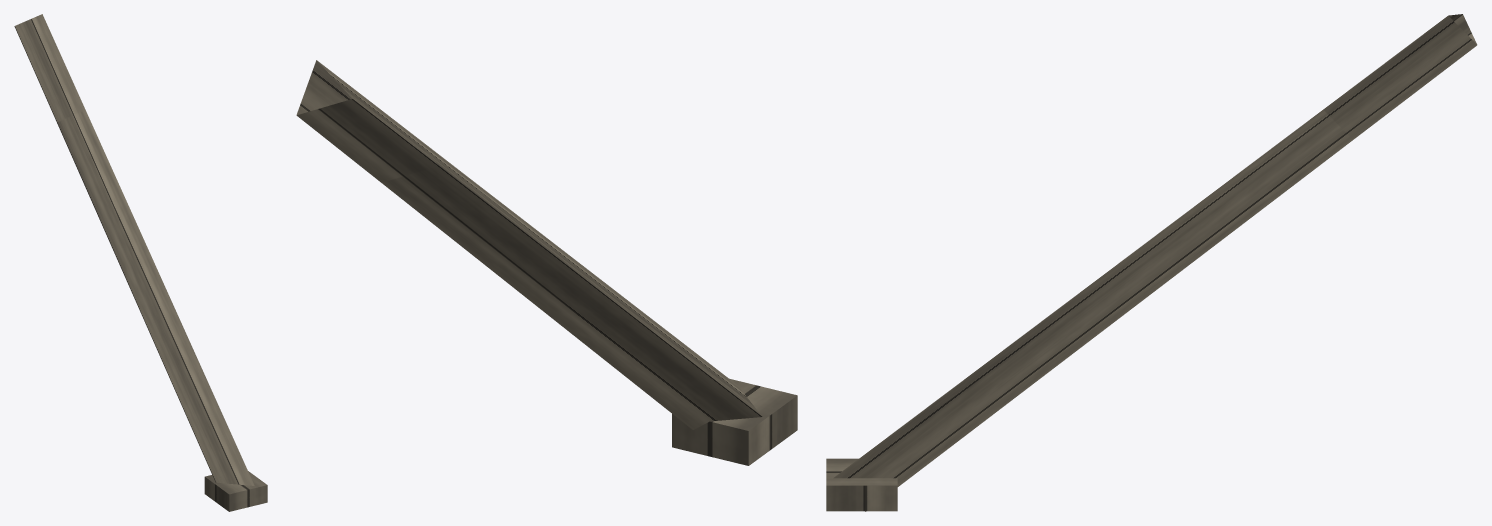
Rendered from Prop_Support_LOD2.gltf.
3 views of the same model, side by side, from view 1: azimuth 30°, elevation 25°; view 2: azimuth 150°, elevation 25°; view 3: azimuth 270°, elevation 25° (orthographic). The views are drawn at different scales.
Visible parts, largest first — view 1: Prop_Support_LOD2; view 2: Prop_Support_LOD2; view 3: Prop_Support_LOD2.
Boxes of the visible parts, bbox=[...] form: Prop_Support_LOD2: bbox=[14, 14, 267, 511]; Prop_Support_LOD2: bbox=[296, 60, 797, 465]; Prop_Support_LOD2: bbox=[826, 14, 1477, 511].
Bounding box in the file's own units: 0.2 × 1.69 × 2.02.
1 material, 1 textured.
